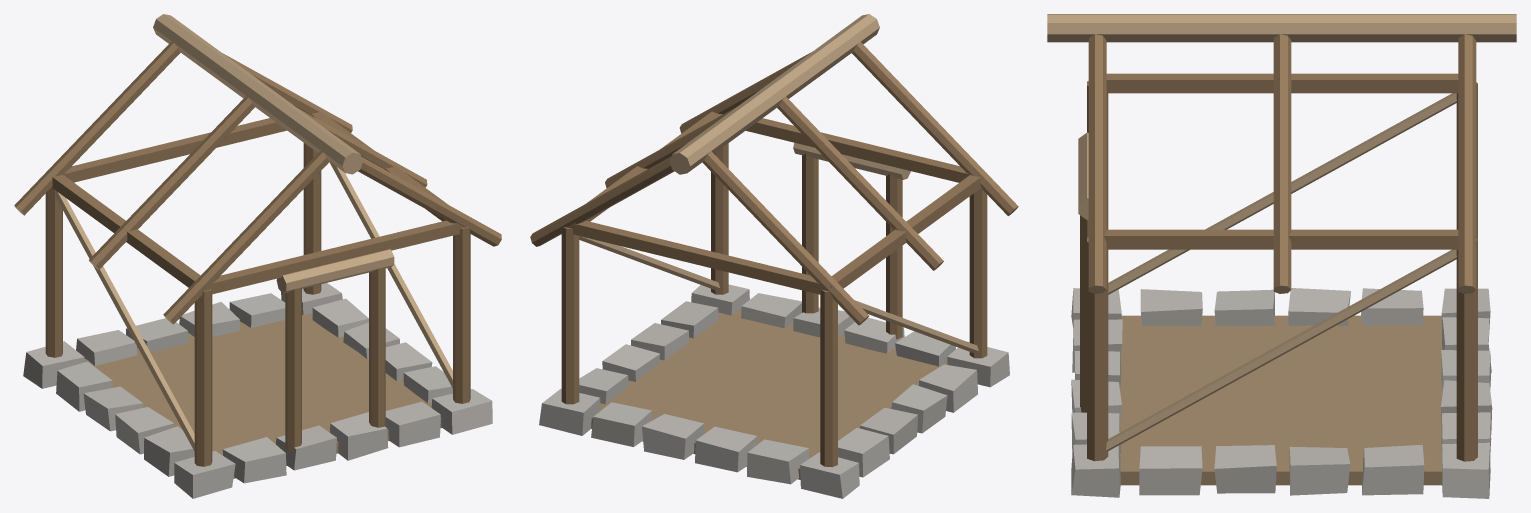
The model's file is building_casting_bench_frame.glb.
3 renders of one model, left to right at view 1: azimuth 30°, elevation 25°; view 2: azimuth 150°, elevation 25°; view 3: azimuth 270°, elevation 25°, orthographic. The views are drawn at different scales.
Visible parts, largest first — view 1: building_casting_bench_frame; view 2: building_casting_bench_frame; view 3: building_casting_bench_frame.
Boxes of the visible parts, x1,y1,x2,y2 form: building_casting_bench_frame: (14,14,501,498); building_casting_bench_frame: (530,14,1018,498); building_casting_bench_frame: (1047,14,1516,498).
Bounding box in the file's own units: 3.85 × 3.47 × 3.76.
